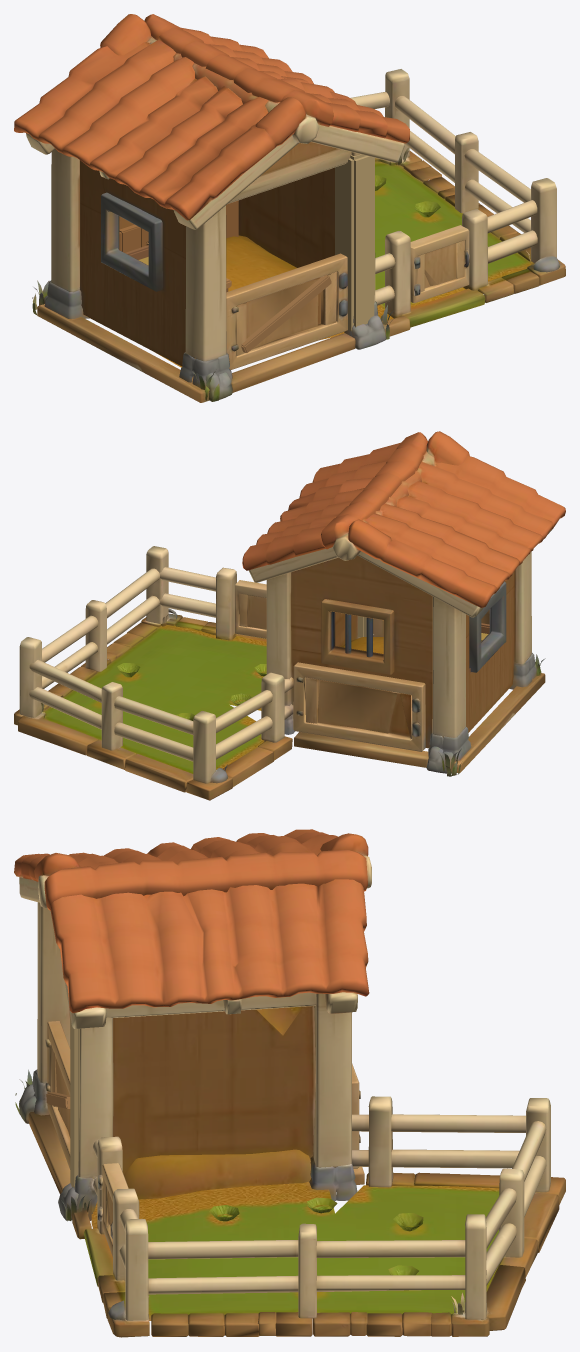
3 renders of one model, top to bottom at view 1: azimuth 30°, elevation 25°; view 2: azimuth 150°, elevation 25°; view 3: azimuth 270°, elevation 25°, orthographic. The views are drawn at different scales.
Parts seen in each view (by area): view 1: tripo_node_1ab5f93f-4f39-4ac6-bcbe-408c19fe9d91, 외형 세부; view 2: tripo_node_1ab5f93f-4f39-4ac6-bcbe-408c19fe9d91; view 3: tripo_node_1ab5f93f-4f39-4ac6-bcbe-408c19fe9d91, 외형 세부.
Boxes of the visible parts, x1,y1,x2,y2 form: tripo_node_1ab5f93f-4f39-4ac6-bcbe-408c19fe9d91: (14,14,565,402); 외형 세부: (119,154,374,352); tripo_node_1ab5f93f-4f39-4ac6-bcbe-408c19fe9d91: (14,431,565,800); tripo_node_1ab5f93f-4f39-4ac6-bcbe-408c19fe9d91: (14,829,565,1337); 외형 세부: (46,1017,94,1188).
Size of the model in its own units: 8 by 4.41 by 7.01.
2 materials, 1 textured.
